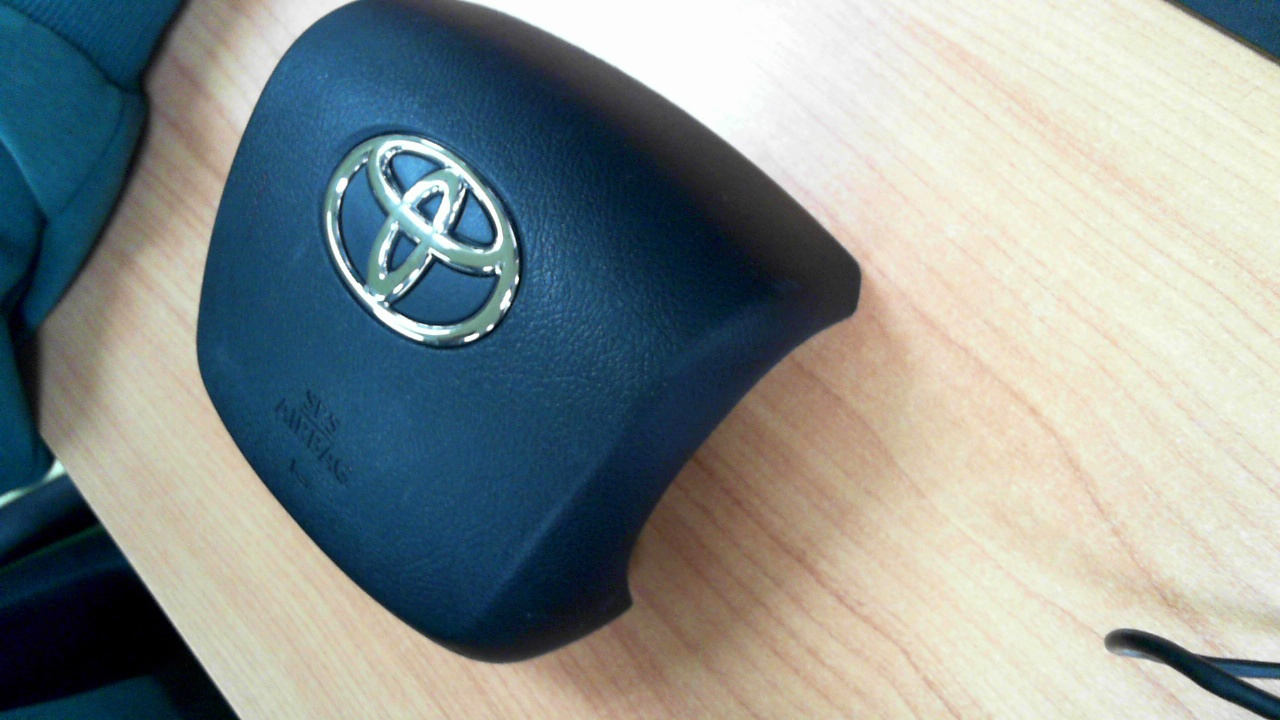Airbag: (201, 0, 861, 663)
Toyota: (324, 134, 520, 351)
